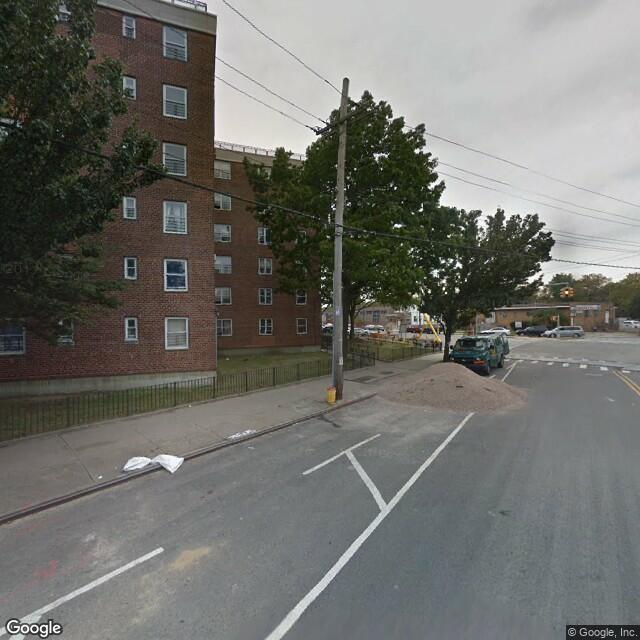litter: (121, 451, 184, 475), (321, 383, 338, 405)
